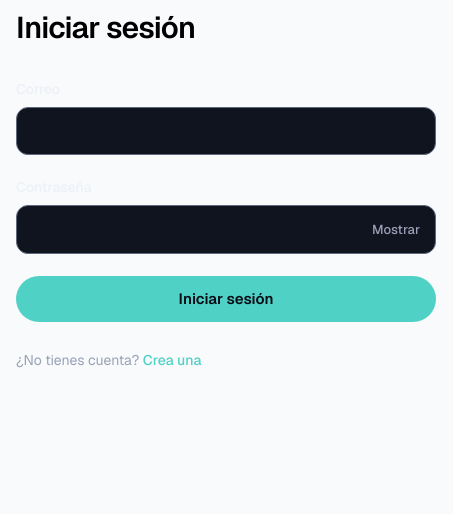
pantalla de inicio de sesión › con credenciales incorrectas lo avisa sin decir cuál falló y borra la contraseña
The width and height of the screenshot is (453, 514).
Type "lectora@example.com" into the field labelled "Correo" at [226, 131], box [16,106,436,155]
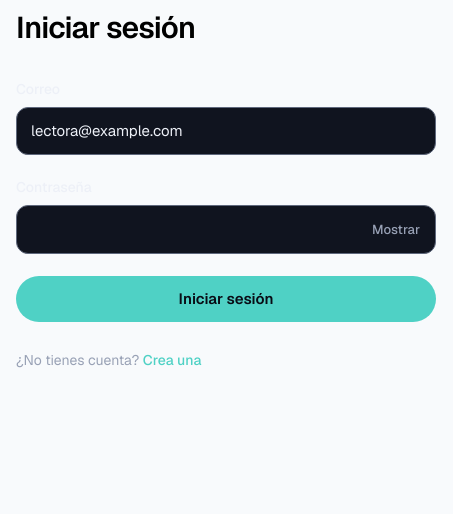
Type "equivocada" into the password field labelled "Contraseña" at [226, 229], box [16,205,436,254]
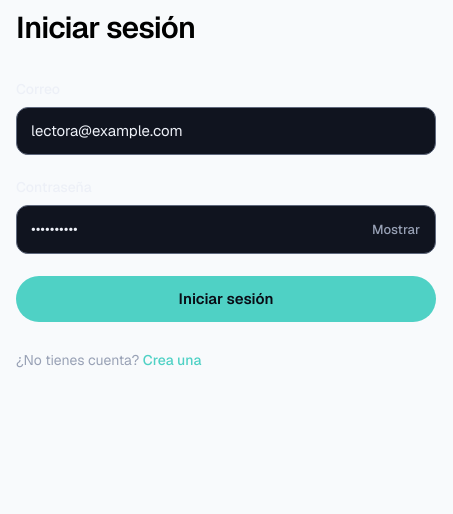
Click the button "Iniciar sesión" at [226, 299], box [16,276,436,322]
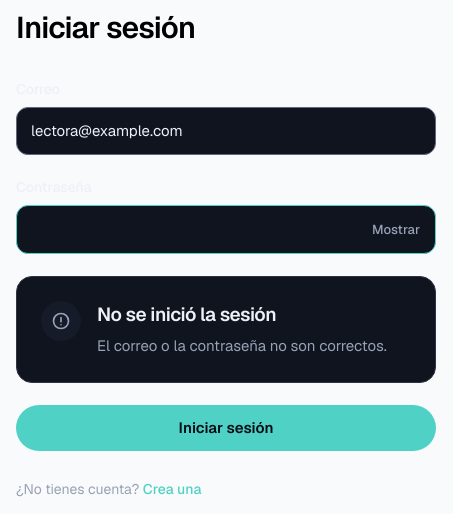
Expected: the message shows "No se inició la sesión", [97,302,276,326]
Expected: the message shows "El correo o la contraseña no son correctos.", [97,336,387,355]
Expected: the password field labelled "Contraseña" is empty, [16,205,436,254]
